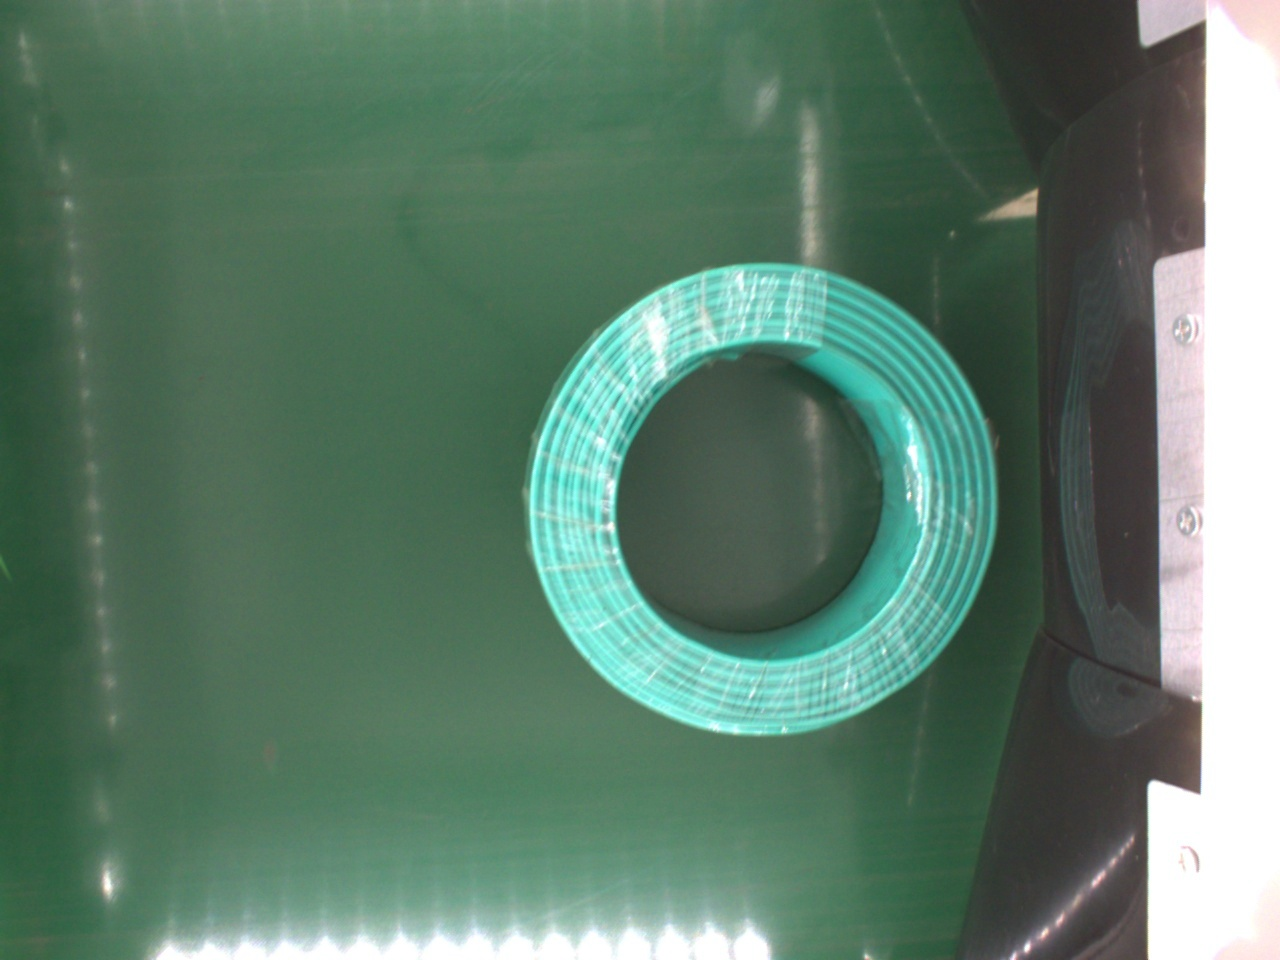green: (519, 264, 1001, 741)
